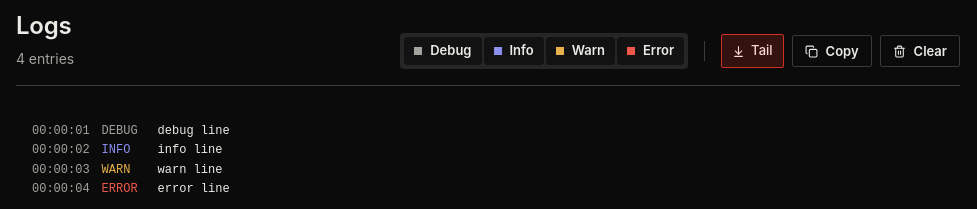
LogsScreen filtering and actions › hides a level when its filter is toggled off
What coordinates should you click on to do the following:
click the button "debug"
I would click on:
 (443, 51)
Its box is [404,37,482,65].
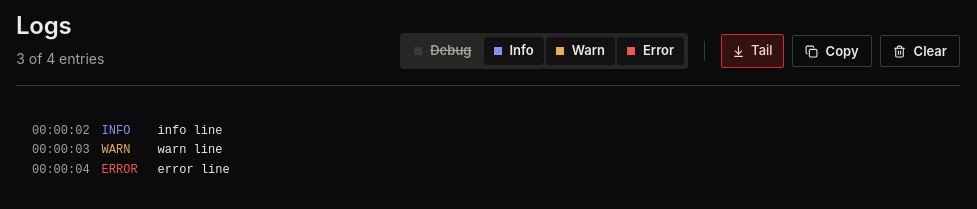
Check: the text "debug line" is gone
Check: the text "info line" is shown, box [158,122,222,141]
